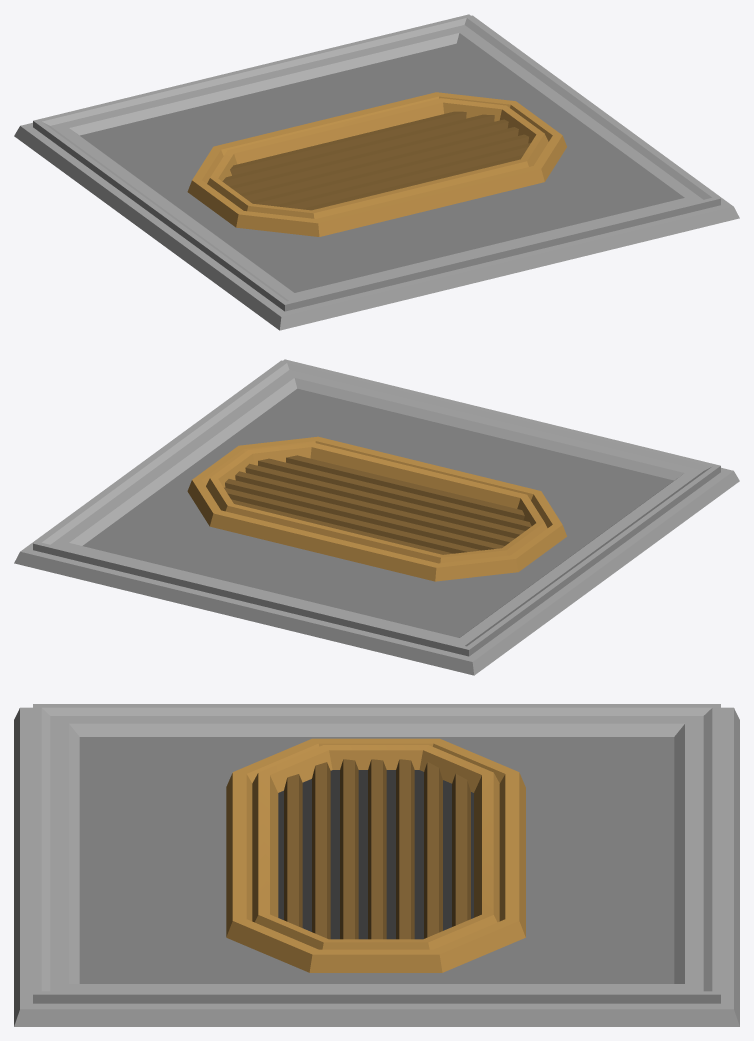
Rendered from RoofTile_OrangeVent.gltf.
The picture shows the model from 3 angles, top to bottom: view 1: azimuth 30°, elevation 25°; view 2: azimuth 150°, elevation 25°; view 3: azimuth 270°, elevation 25°; orthographic projection. The views are drawn at different scales.
Parts seen in each view (by area): view 1: RoofTile_OrangeVent; view 2: RoofTile_OrangeVent; view 3: RoofTile_OrangeVent.
Part boxes in pixels (left/top/right/bottom): RoofTile_OrangeVent: left=14, top=14, right=739, bottom=330; RoofTile_OrangeVent: left=14, top=359, right=739, bottom=675; RoofTile_OrangeVent: left=14, top=704, right=739, bottom=1026.
Size of the model in its own units: 2 by 0.1157 by 2.
